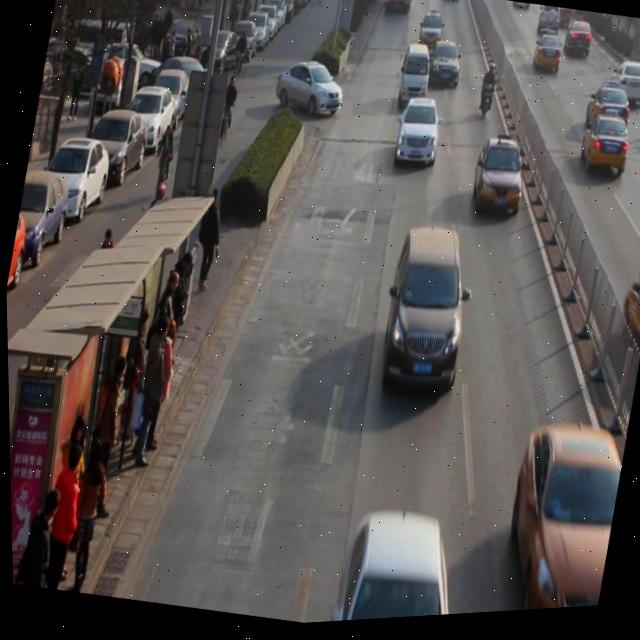car: (486, 415, 629, 618), (371, 224, 481, 400), (327, 500, 476, 625), (466, 135, 532, 226), (576, 111, 635, 187), (393, 98, 445, 175), (583, 81, 635, 139), (426, 39, 466, 97), (606, 63, 640, 117), (531, 33, 565, 82), (562, 22, 597, 65), (417, 11, 446, 55), (537, 11, 564, 42), (553, 13, 572, 32)
truck: (394, 46, 436, 115)
